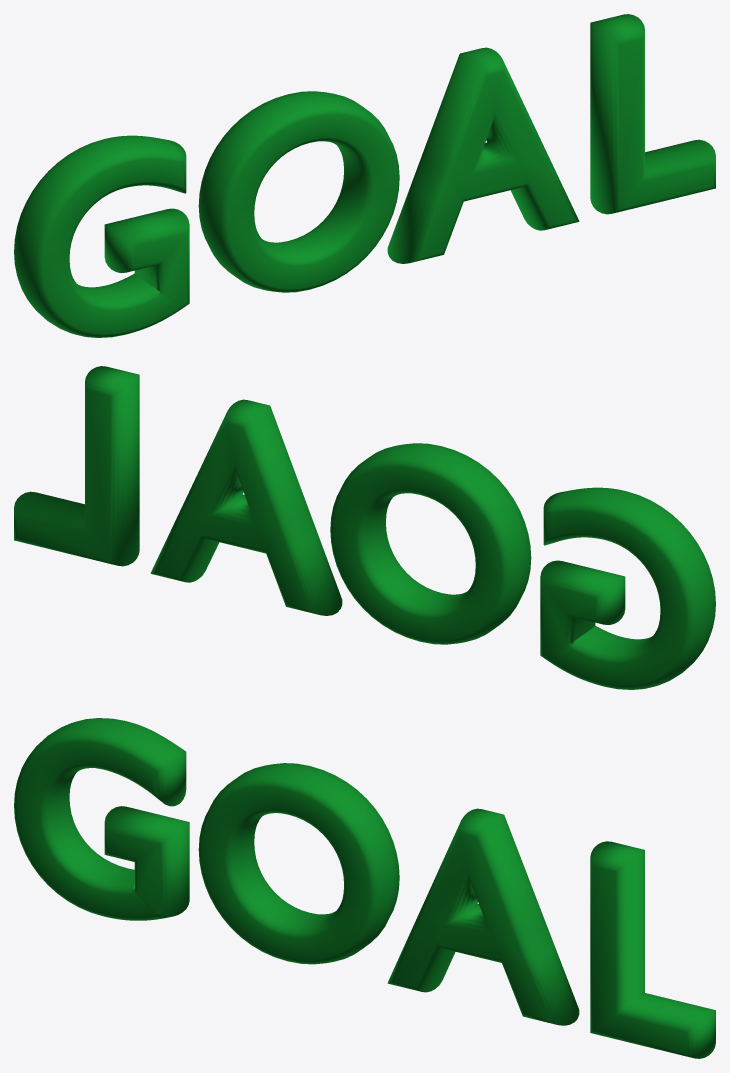
The model's file is Miscellaneous_GOAL_01.fbx.
3 renders of one model, top to bottom at view 1: azimuth 30°, elevation 25°; view 2: azimuth 150°, elevation 25°; view 3: azimuth 330°, elevation 25°, orthographic.
Visible parts, largest first — view 1: Text GOAL; view 2: Text GOAL; view 3: Text GOAL.
Boxes of the visible parts, bbox=[...] form: Text GOAL: bbox=[14, 14, 715, 337]; Text GOAL: bbox=[14, 366, 715, 689]; Text GOAL: bbox=[14, 718, 715, 1058].
Size of the model in its own units: 11.97 by 3.12 by 0.8.
